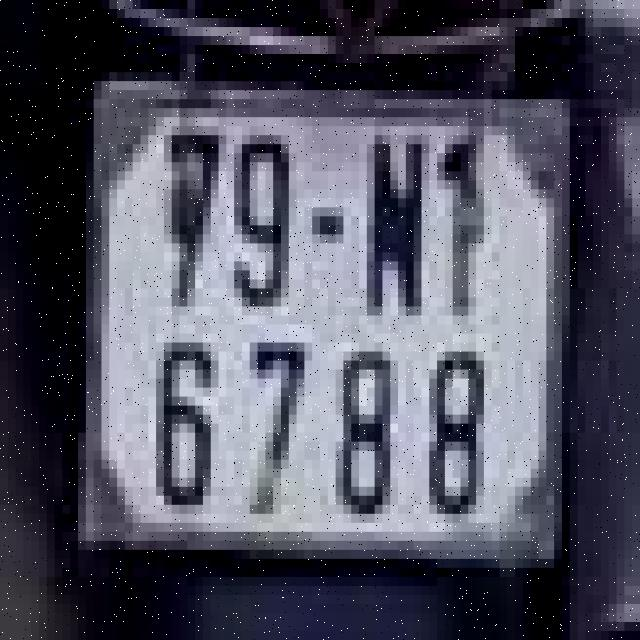1: (437, 126, 500, 325)
6: (152, 329, 222, 518)
7: (242, 329, 320, 518), (160, 122, 222, 311)
8: (418, 338, 496, 518), (332, 342, 409, 514)
9: (230, 126, 300, 316)
N: (363, 122, 433, 329)
